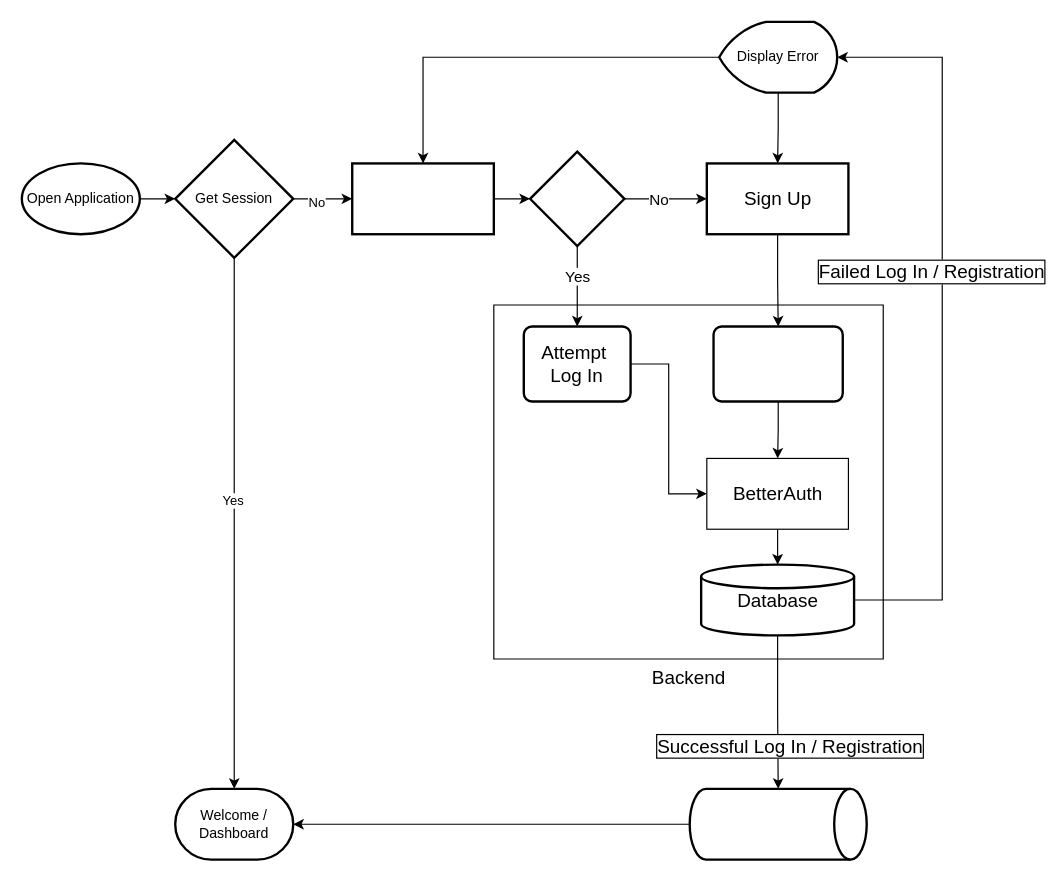
This 1064x880 diagram has some shape labels left out. Each missing label, with the centre of its shape:
Log In: the point at 422,198
Registration: the point at 777,363
User + Session: the point at 777,823
User has account: the point at 576,198
